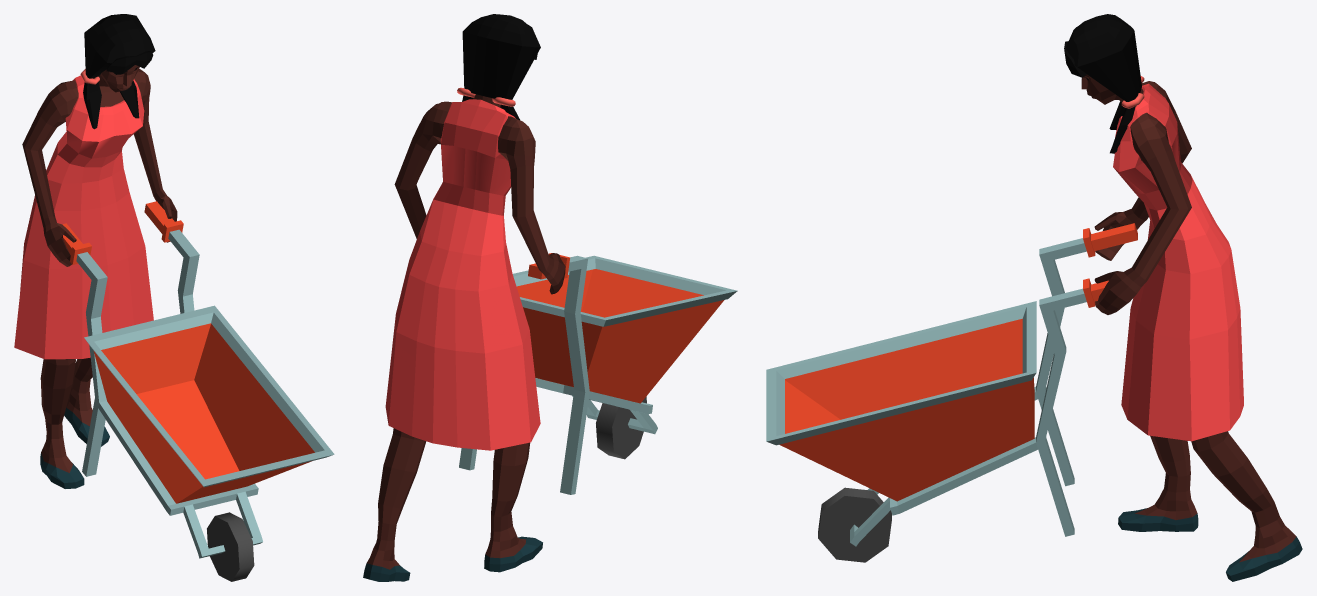
Rendered from Female_pose_05.FBX.
The picture shows the model from 3 angles, left to right: view 1: azimuth 30°, elevation 25°; view 2: azimuth 150°, elevation 25°; view 3: azimuth 270°, elevation 25°; orthographic projection. The views are drawn at different scales.
Parts seen in each view (by area): view 1: Female_pose_05; view 2: Female_pose_05; view 3: Female_pose_05.
Part boxes in pixels (left/top/right/bottom): Female_pose_05: left=14, top=14, right=334, bottom=581; Female_pose_05: left=363, top=14, right=737, bottom=581; Female_pose_05: left=766, top=14, right=1302, bottom=581.
Bounding box in the file's own units: 0.4723 × 1.63 × 1.47.
Materials: 1 (1 with a texture image).
